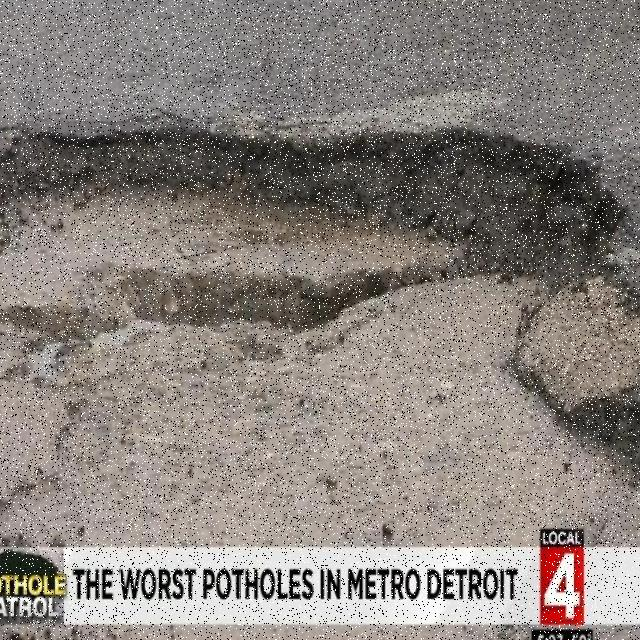pothole: (0, 79, 640, 527)
